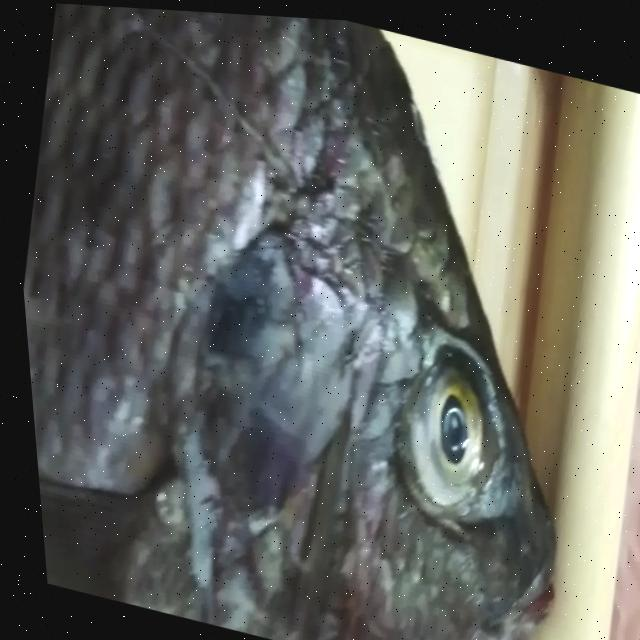Non-Fresh: (372, 326, 528, 518)
